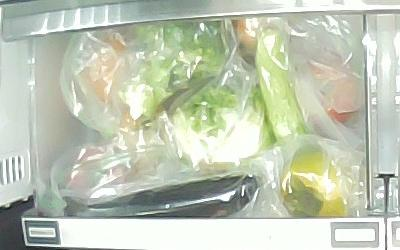cucumber_vinyl: (256, 29, 310, 145)
eggplant_vinyl: (64, 176, 260, 219)
persimmon_vinyl: (281, 150, 349, 217)
